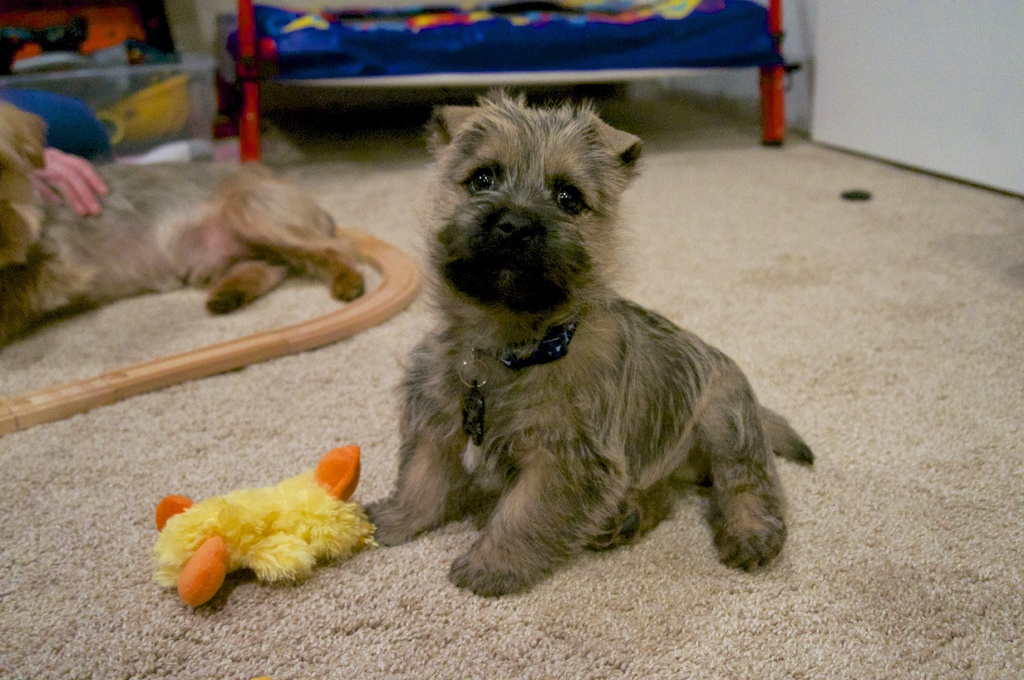Human_hand: (28, 146, 108, 217)
